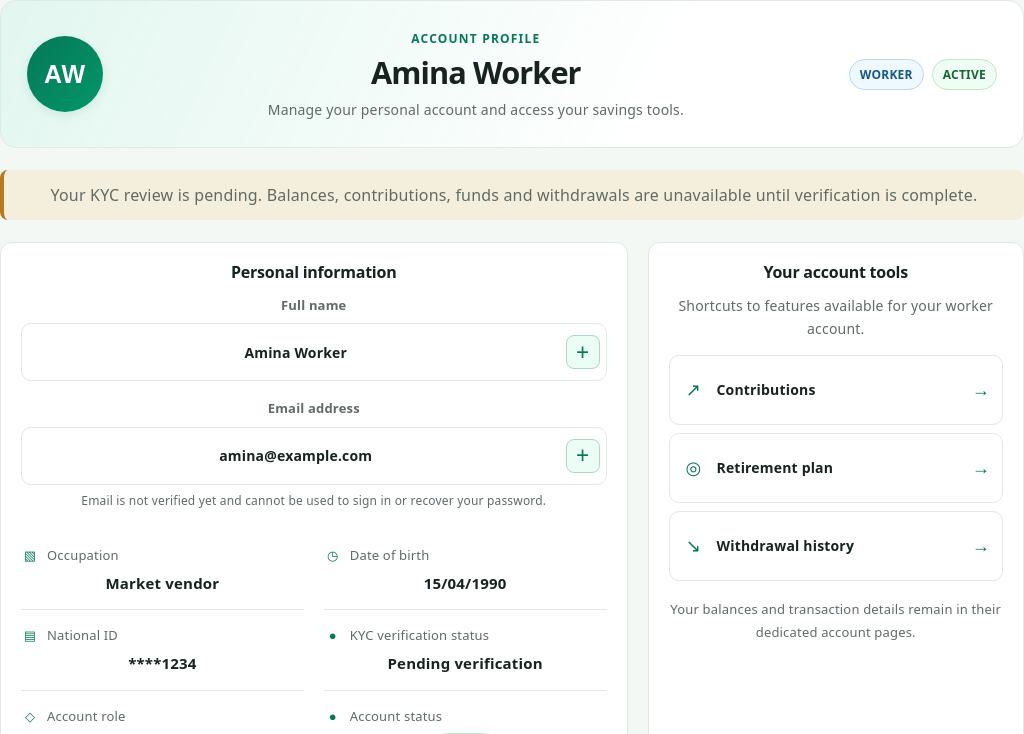
shared ProfileCard › enables email inline editing and validates email input semantics
Check: the heading "Amina Worker" is shown, box [371,51,581,93]
Click the button named "Edit email address" at (582, 456), box [566,438,600,472]
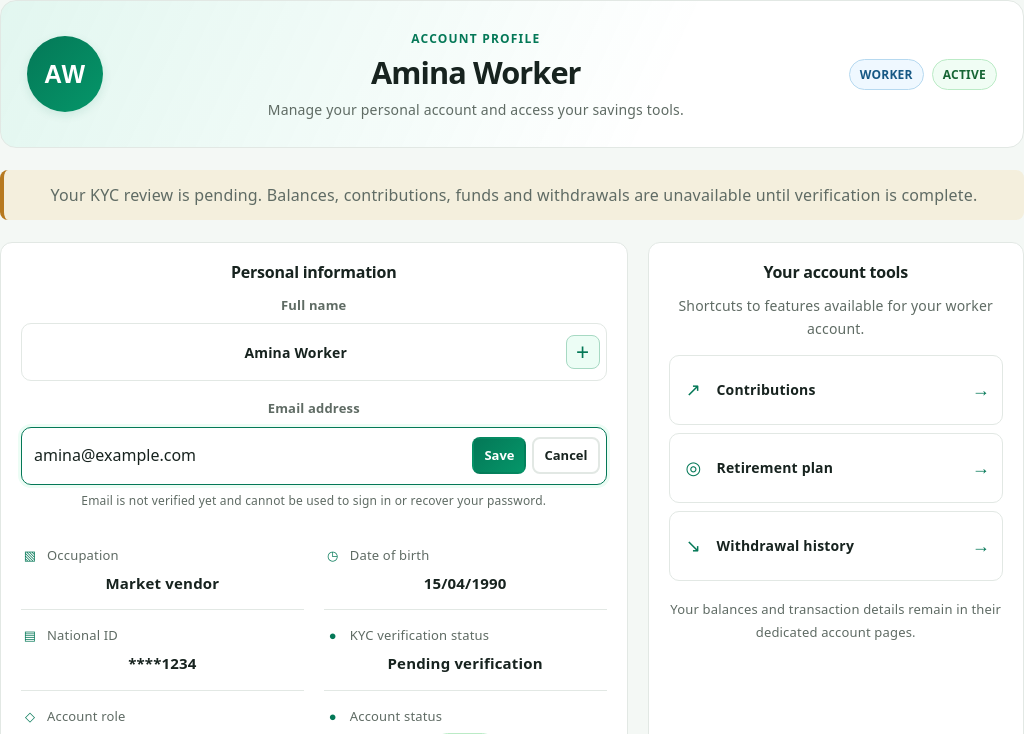
Check: the field labelled "Email address" holds "amina@example.com"
Replace the text in the field labelled "Email address" with "invalid-email" at (249, 456), box [34,439,464,472]
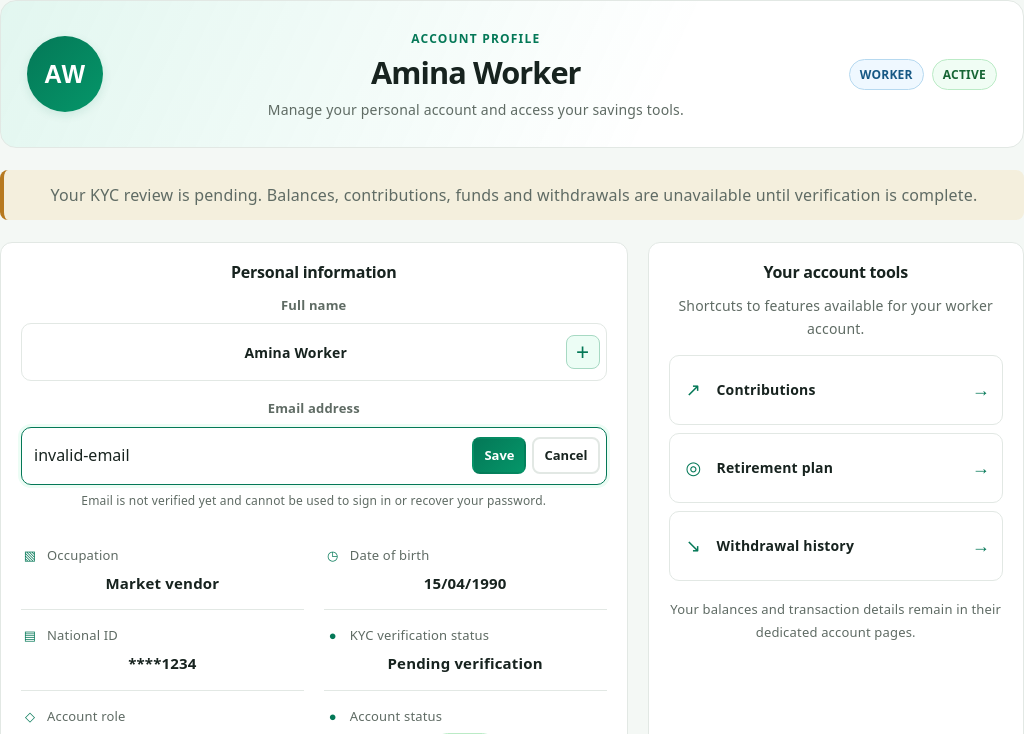
Click the button "Save" at (499, 456), box [472,437,526,474]
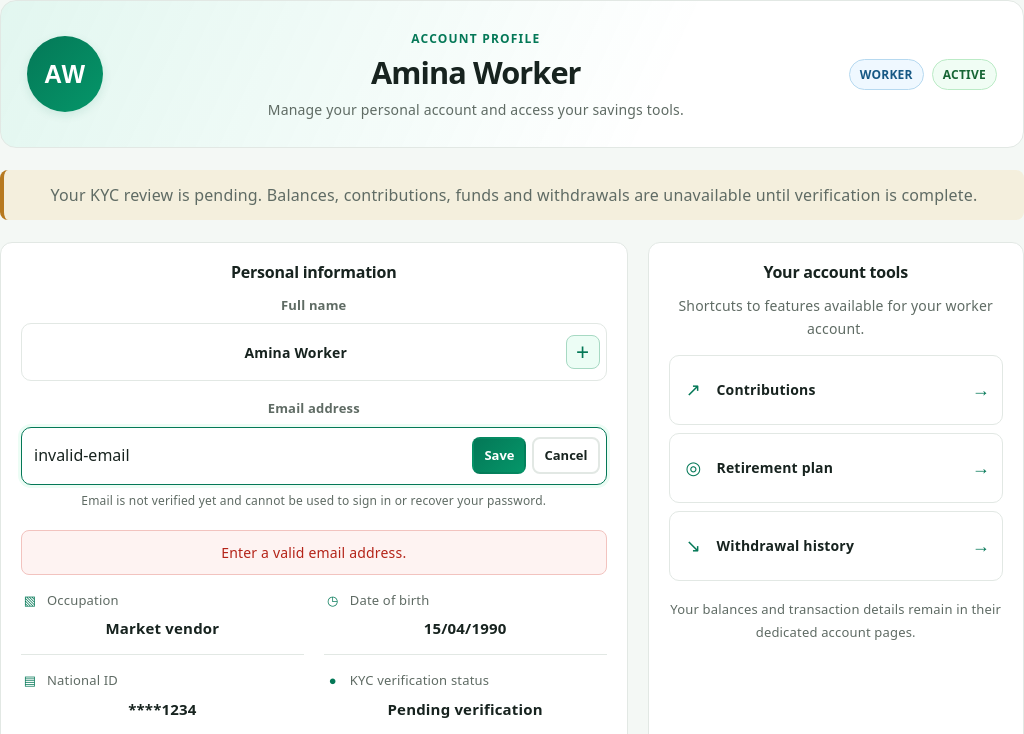
Check: the message shows "Enter a valid email address", box [221,543,406,562]
